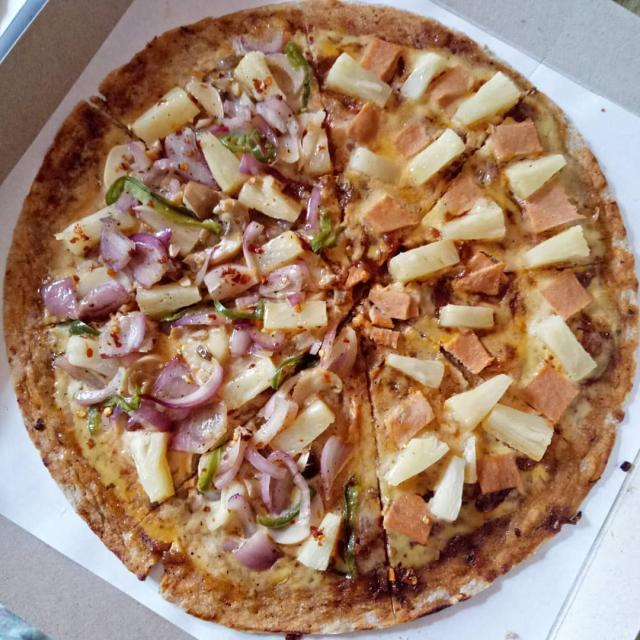pizza: (5, 1, 639, 632)
